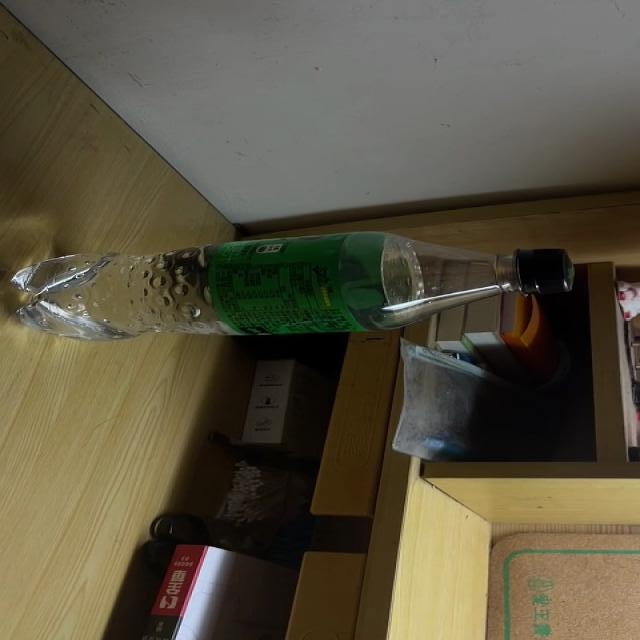Sprite: (16, 232, 577, 341)
